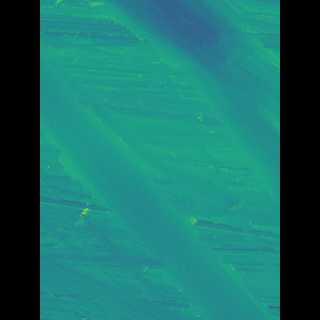Loch: (70, 41, 245, 320), (101, 0, 250, 205)
